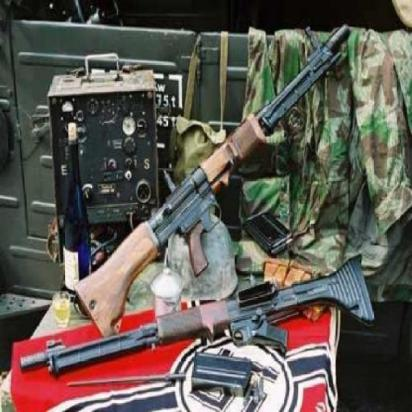Gun: (76, 24, 351, 344)
